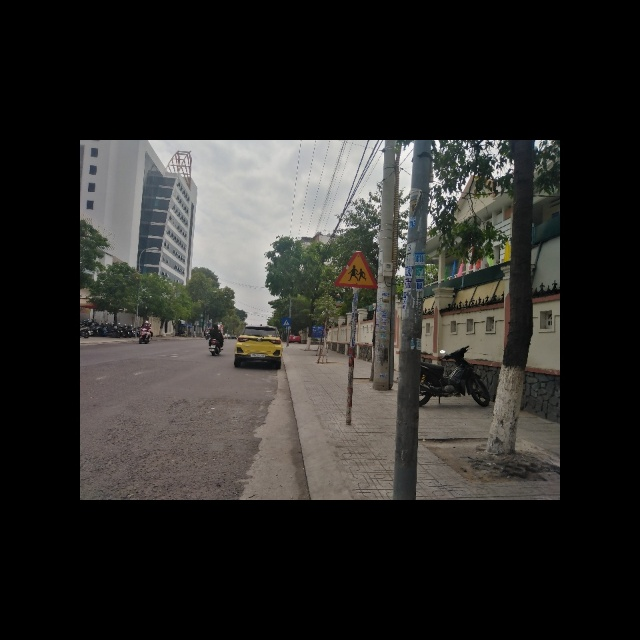Trẻ em ngang qua: (334, 251, 377, 287)
Đường dành cho người đi bộ: (281, 317, 291, 326)
